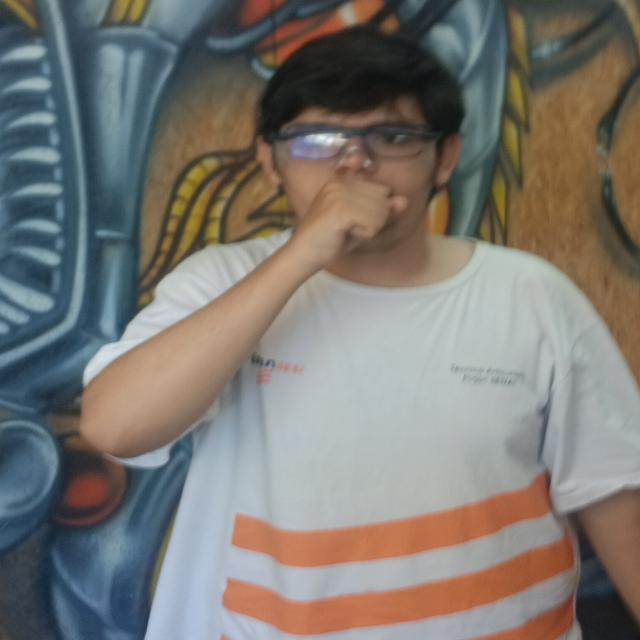oculos-epi: (269, 123, 438, 180)
